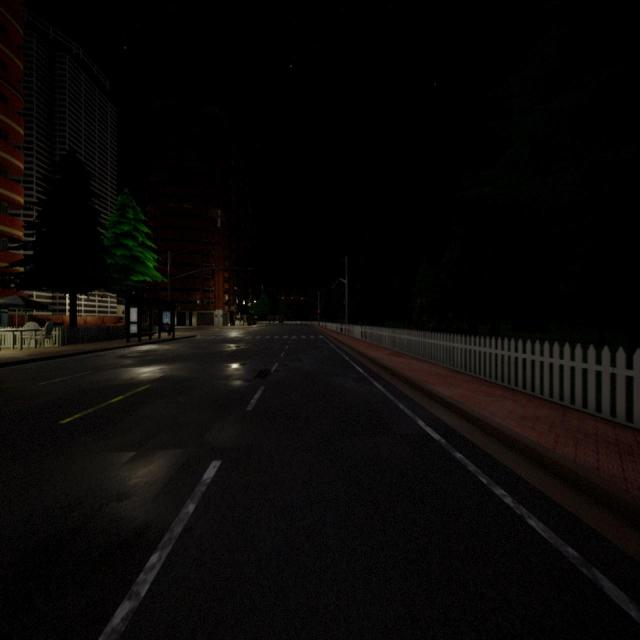traffic_light: (318, 310, 320, 316), (301, 297, 303, 300), (282, 297, 284, 299), (291, 298, 293, 300)
